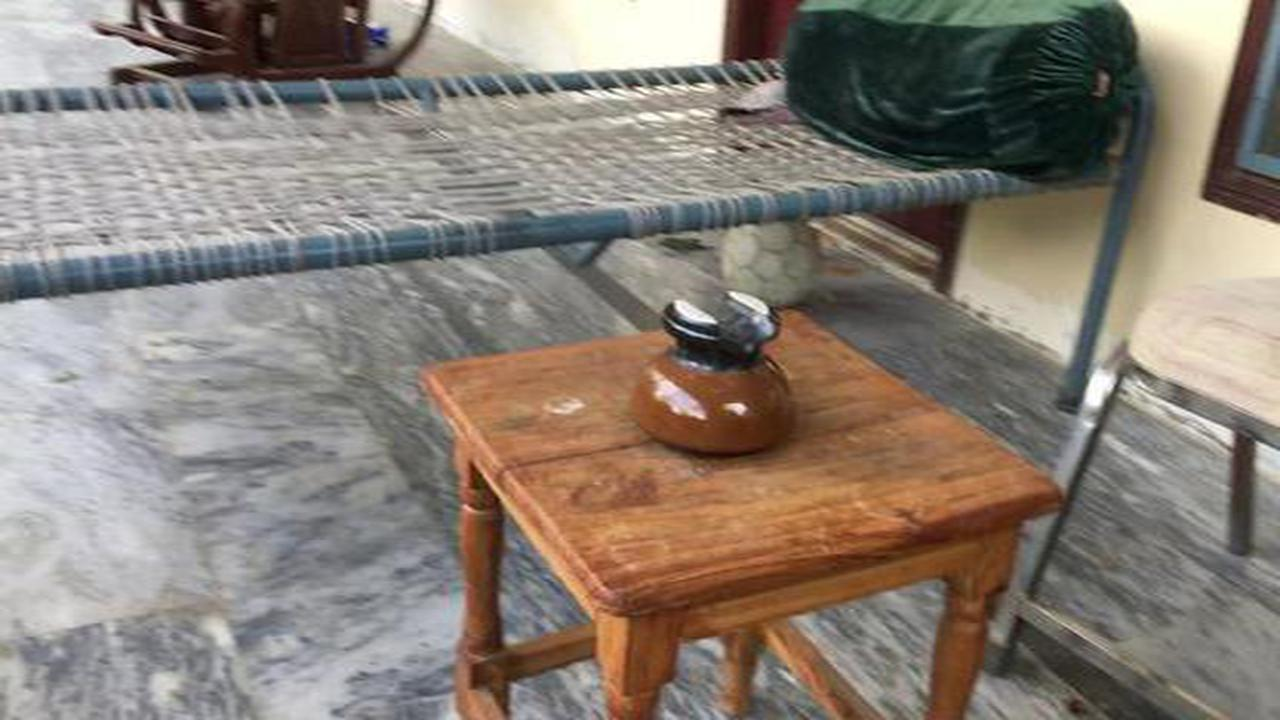insulator_pin: (622, 281, 813, 475)
